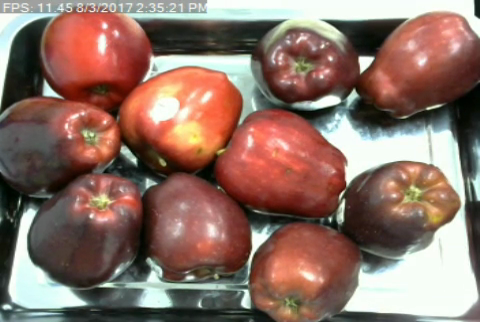Apple: (213, 104, 350, 220), (116, 64, 246, 179), (23, 170, 145, 291), (353, 9, 480, 123), (135, 171, 253, 284), (341, 158, 464, 262), (36, 4, 155, 109), (0, 93, 123, 191), (246, 220, 360, 322), (249, 13, 362, 114)
